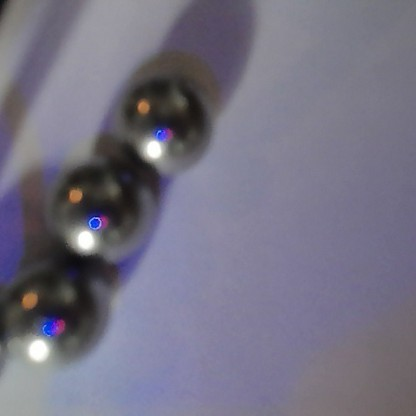ironball: (1, 264, 110, 369), (51, 162, 159, 265), (119, 79, 212, 174)
